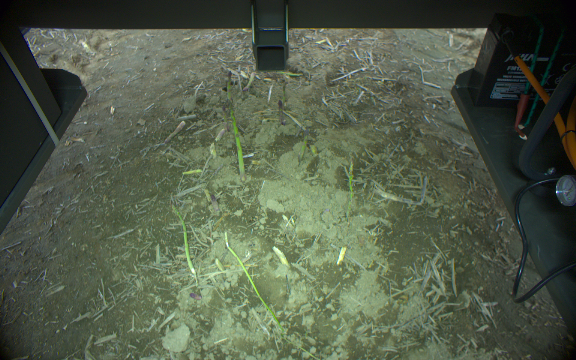aspa: (223, 230, 282, 336), (169, 200, 197, 280), (226, 105, 247, 182), (296, 127, 313, 161), (239, 70, 256, 94), (223, 69, 235, 102), (275, 98, 286, 125), (180, 166, 203, 177), (209, 195, 219, 210)
